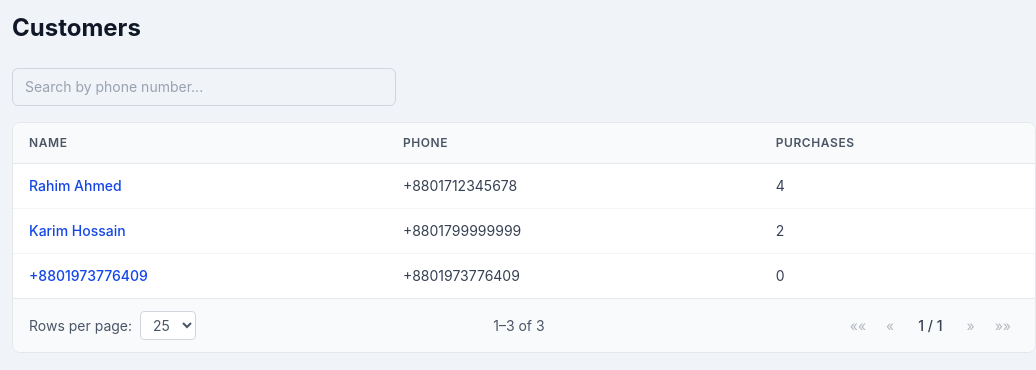
Test case: CustomersPage › Customer List › filters customers by phone number search
The width and height of the screenshot is (1036, 370).
Expected: the button "Rahim Ahmed" is shown, [29,176,122,196]
In the field named "Search customers by phone number": (204, 87) [12,68,396,106], type "9999"
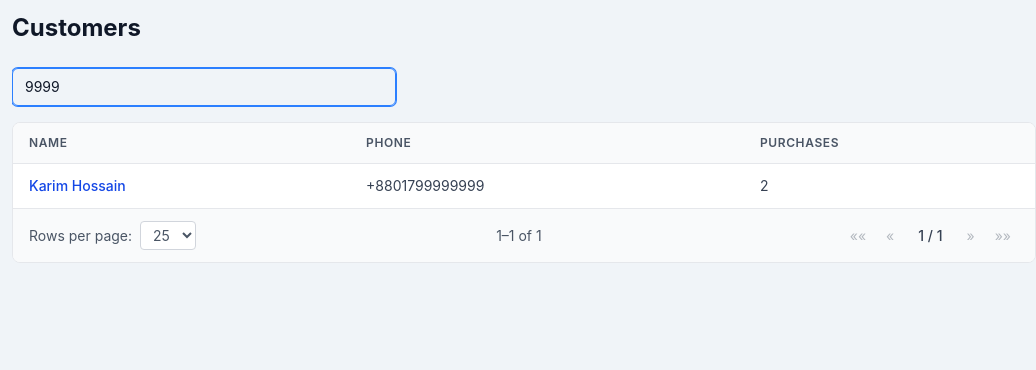
Expected: the button "Karim Hossain" is shown, [29,176,126,196]
Expected: the button "Rahim Ahmed" is gone
